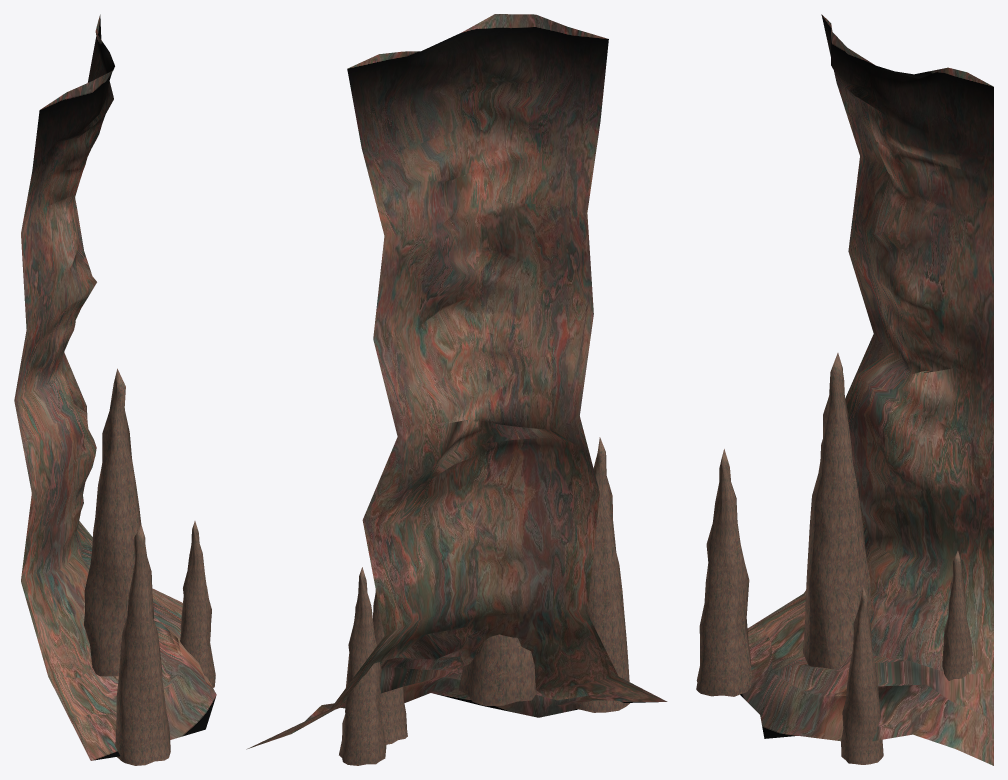
File: cave_walls_convex_stalag.glb
3 renders of one model, left to right at view 1: azimuth 30°, elevation 25°; view 2: azimuth 150°, elevation 25°; view 3: azimuth 270°, elevation 25°, orthographic. The views are drawn at different scales.
Visible parts, largest first — view 1: cave_convex_stalag-col; view 2: cave_convex_stalag-col; view 3: cave_convex_stalag-col.
Part boxes in pixels (<box>): cave_convex_stalag-col: <box>14,14,216,765</box>; cave_convex_stalag-col: <box>246,14,667,765</box>; cave_convex_stalag-col: <box>696,14,993,765</box>.
Size of the model in its own units: 1.6 by 4.24 by 1.72.
Materials: 2 (2 with a texture image).
